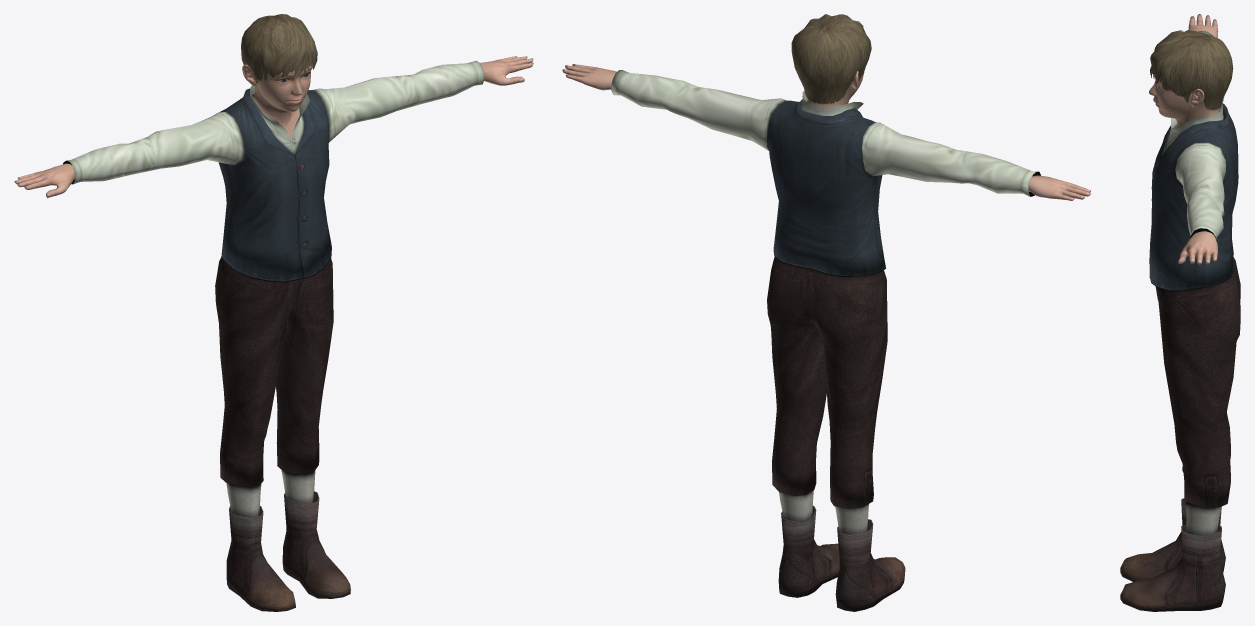
Rendered from boy.obj.
3 renders of one model, left to right at view 1: azimuth 30°, elevation 25°; view 2: azimuth 150°, elevation 25°; view 3: azimuth 270°, elevation 25°, orthographic. The views are drawn at different scales.
Visible parts, largest first — view 1: Boy; view 2: Boy; view 3: Boy.
Boxes of the visible parts, x1,y1,x2,y2 form: Boy: [14, 14, 533, 611]; Boy: [562, 14, 1090, 611]; Boy: [1120, 14, 1240, 611].
Bounding box in the file's own units: 120 × 125 × 24.67.
